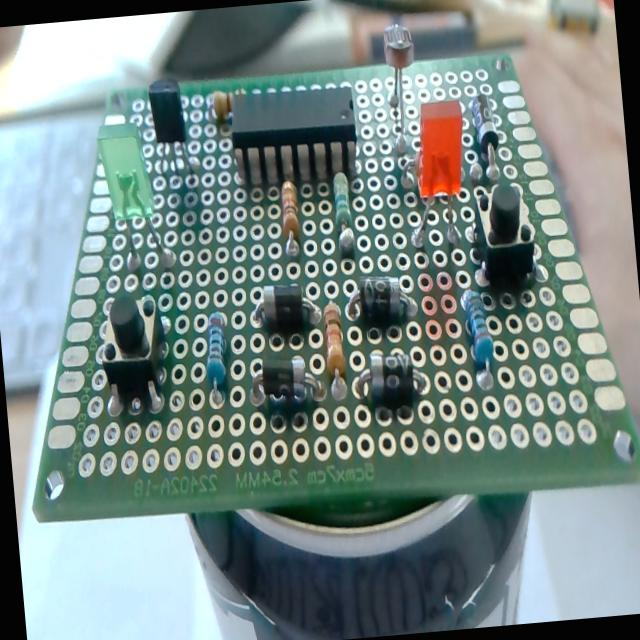IC: (226, 80, 362, 183)
cds: (380, 22, 422, 149)
diode: (350, 348, 427, 413), (248, 352, 324, 408), (342, 274, 418, 328), (252, 282, 322, 333), (466, 90, 503, 183)
led: (401, 98, 474, 252), (97, 120, 169, 274)
resistor: (460, 286, 496, 376), (200, 311, 232, 394), (330, 170, 356, 256), (321, 300, 347, 382), (278, 178, 302, 248), (212, 89, 235, 122)
switch: (94, 290, 168, 414), (466, 176, 538, 292)
transistor: (146, 75, 197, 182)
